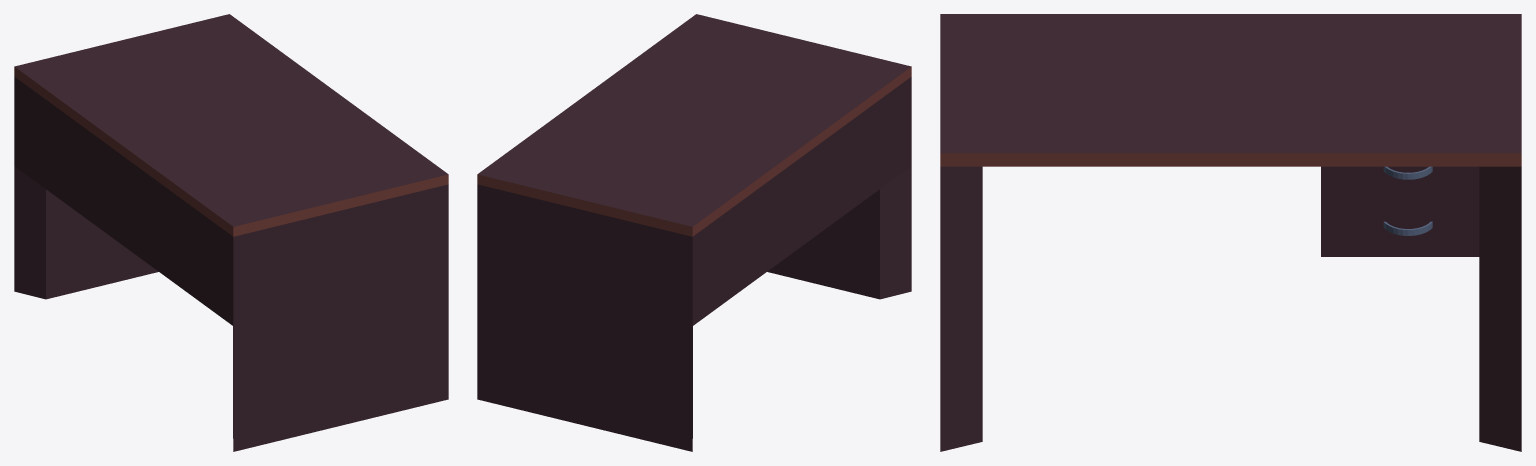
Rendered from Escritorio oficina texturas simples.fbx.
3 renders of one model, left to right at view 1: azimuth 30°, elevation 25°; view 2: azimuth 150°, elevation 25°; view 3: azimuth 270°, elevation 25°, orthographic. The views are drawn at different scales.
Visible parts, largest first — view 1: Cylinder.001; view 2: Cylinder.001; view 3: Cylinder.001.
Part boxes in pixels (bbox=[...]): Cylinder.001: bbox=[14, 14, 448, 451]; Cylinder.001: bbox=[477, 14, 911, 451]; Cylinder.001: bbox=[940, 14, 1521, 451].
Size of the model in its own units: 70.69 by 70.63 by 125.
Materials: 1 (1 with a texture image).
